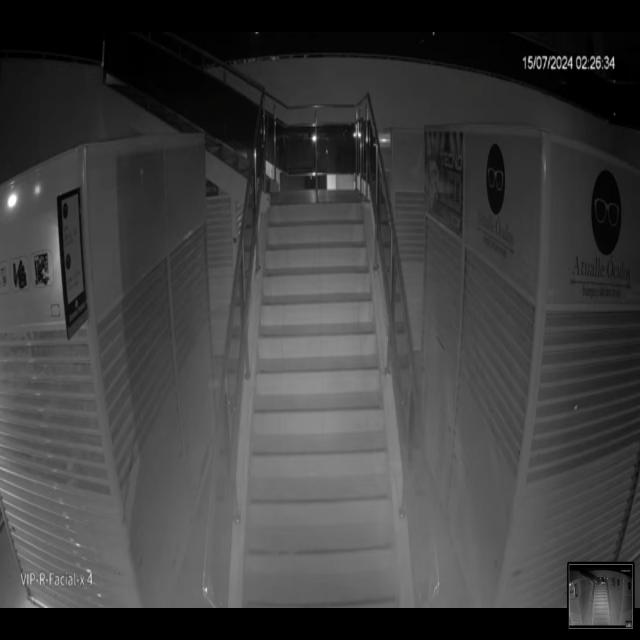Atencao: (169, 278, 522, 595)
